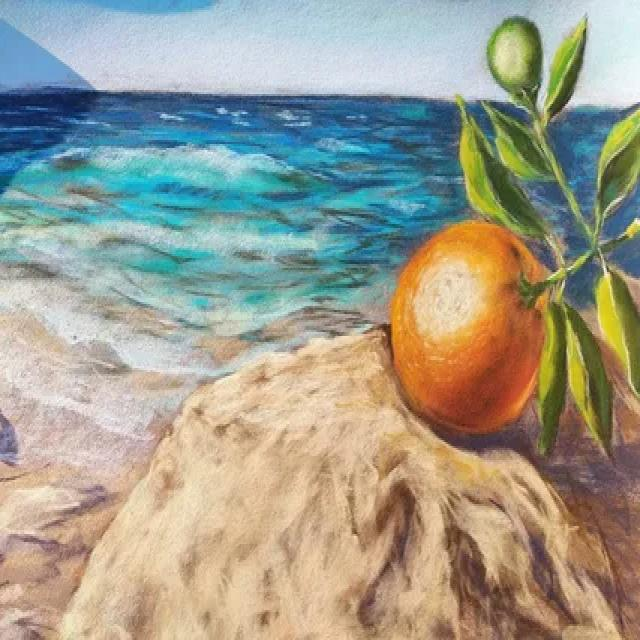orange: (383, 208, 564, 437)
